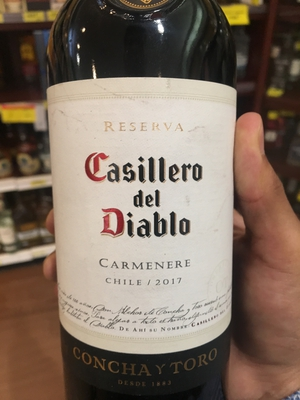casillero del diablo carmenere: (42, 2, 236, 400)
